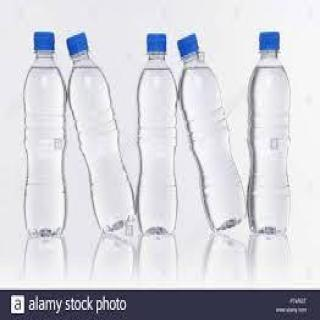Plastic-bottle: (176, 29, 250, 233), (65, 28, 137, 234), (20, 26, 72, 244), (244, 29, 294, 243), (136, 28, 181, 241)
